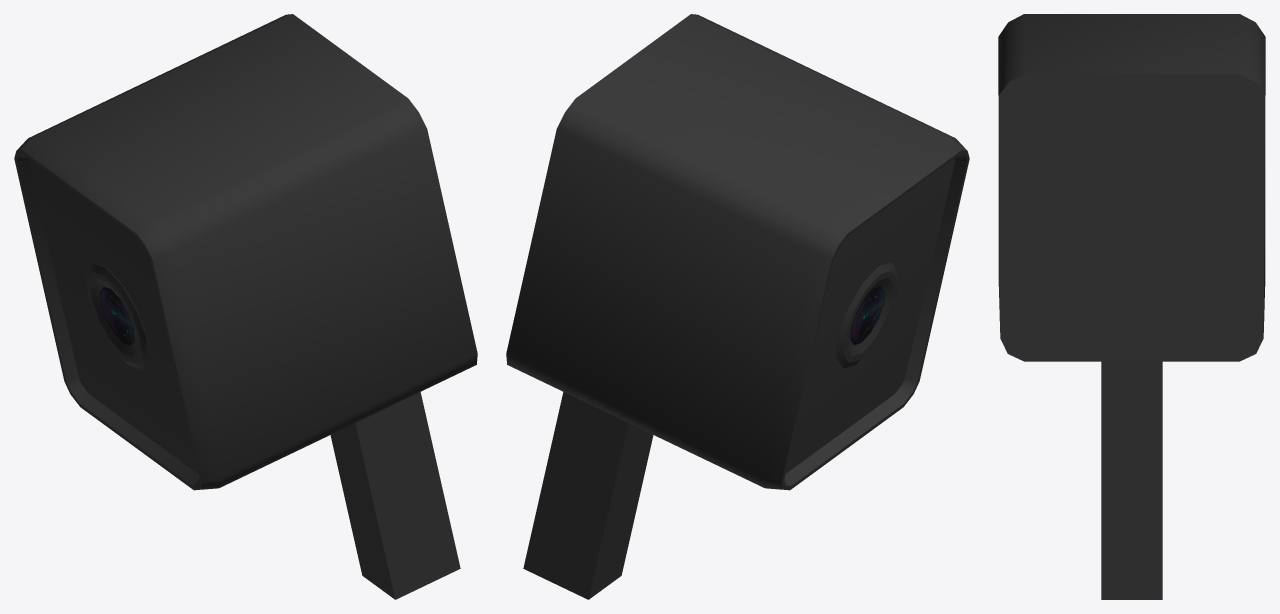
The model's file is camera.dae.
The picture shows the model from 3 angles, left to right: view 1: azimuth 30°, elevation 25°; view 2: azimuth 150°, elevation 25°; view 3: azimuth 270°, elevation 25°; orthographic projection. The views are drawn at different scales.
Parts seen in each view (by area): view 1: node; view 2: node; view 3: node.
Part boxes in pixels (<box>): node: <box>14,14,477,599</box>; node: <box>506,14,969,599</box>; node: <box>998,14,1265,599</box>.
Size of the model in its own units: 6.49 by 4.45 by 9.16.
1 material, 1 textured.
